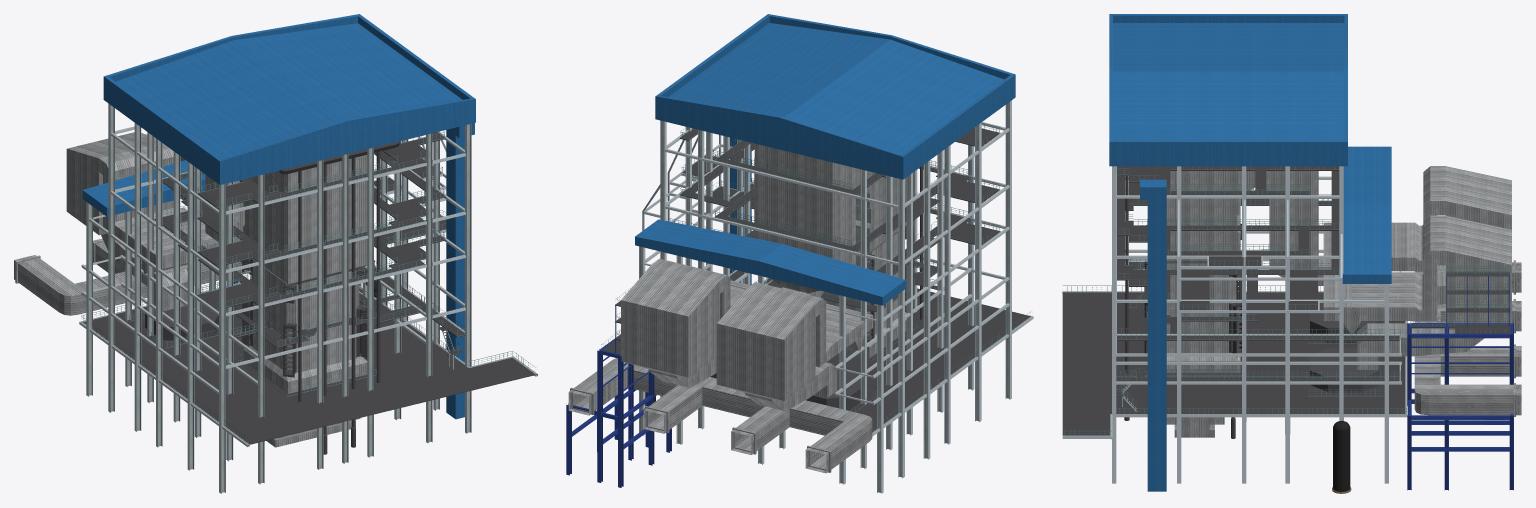
File: guolu.FBX
3 views of the same model, side by side, from view 1: azimuth 30°, elevation 25°; view 2: azimuth 150°, elevation 25°; view 3: azimuth 270°, elevation 25° (orthographic). The views are drawn at different scales.
Parts seen in each view (by area): view 1: 6, 1, 4, 2, 3, 5; view 2: 2, 6, 1, 4, 3, 5; view 3: 6, 2, 4, 1, 3, 5, 9.
Part boxes in pixels (x1,y1,x2,y2): 6: [82, 14, 475, 419]; 1: [79, 103, 537, 493]; 4: [83, 132, 536, 444]; 2: [14, 132, 367, 447]; 3: [81, 132, 535, 444]; 5: [145, 151, 380, 454]; 2: [568, 143, 906, 473]; 6: [635, 14, 1015, 305]; 1: [566, 100, 1033, 493]; 4: [602, 127, 1030, 432]; 3: [601, 122, 1031, 432]; 5: [806, 165, 923, 410]; 6: [1109, 14, 1391, 491]; 2: [1166, 166, 1521, 437]; 4: [1062, 166, 1510, 435]; 1: [1062, 166, 1513, 490]; 3: [1063, 166, 1509, 436]; 5: [1124, 176, 1380, 438]; 9: [1333, 420, 1350, 491].
Bounding box in the file's own units: 232 × 252 × 298.
